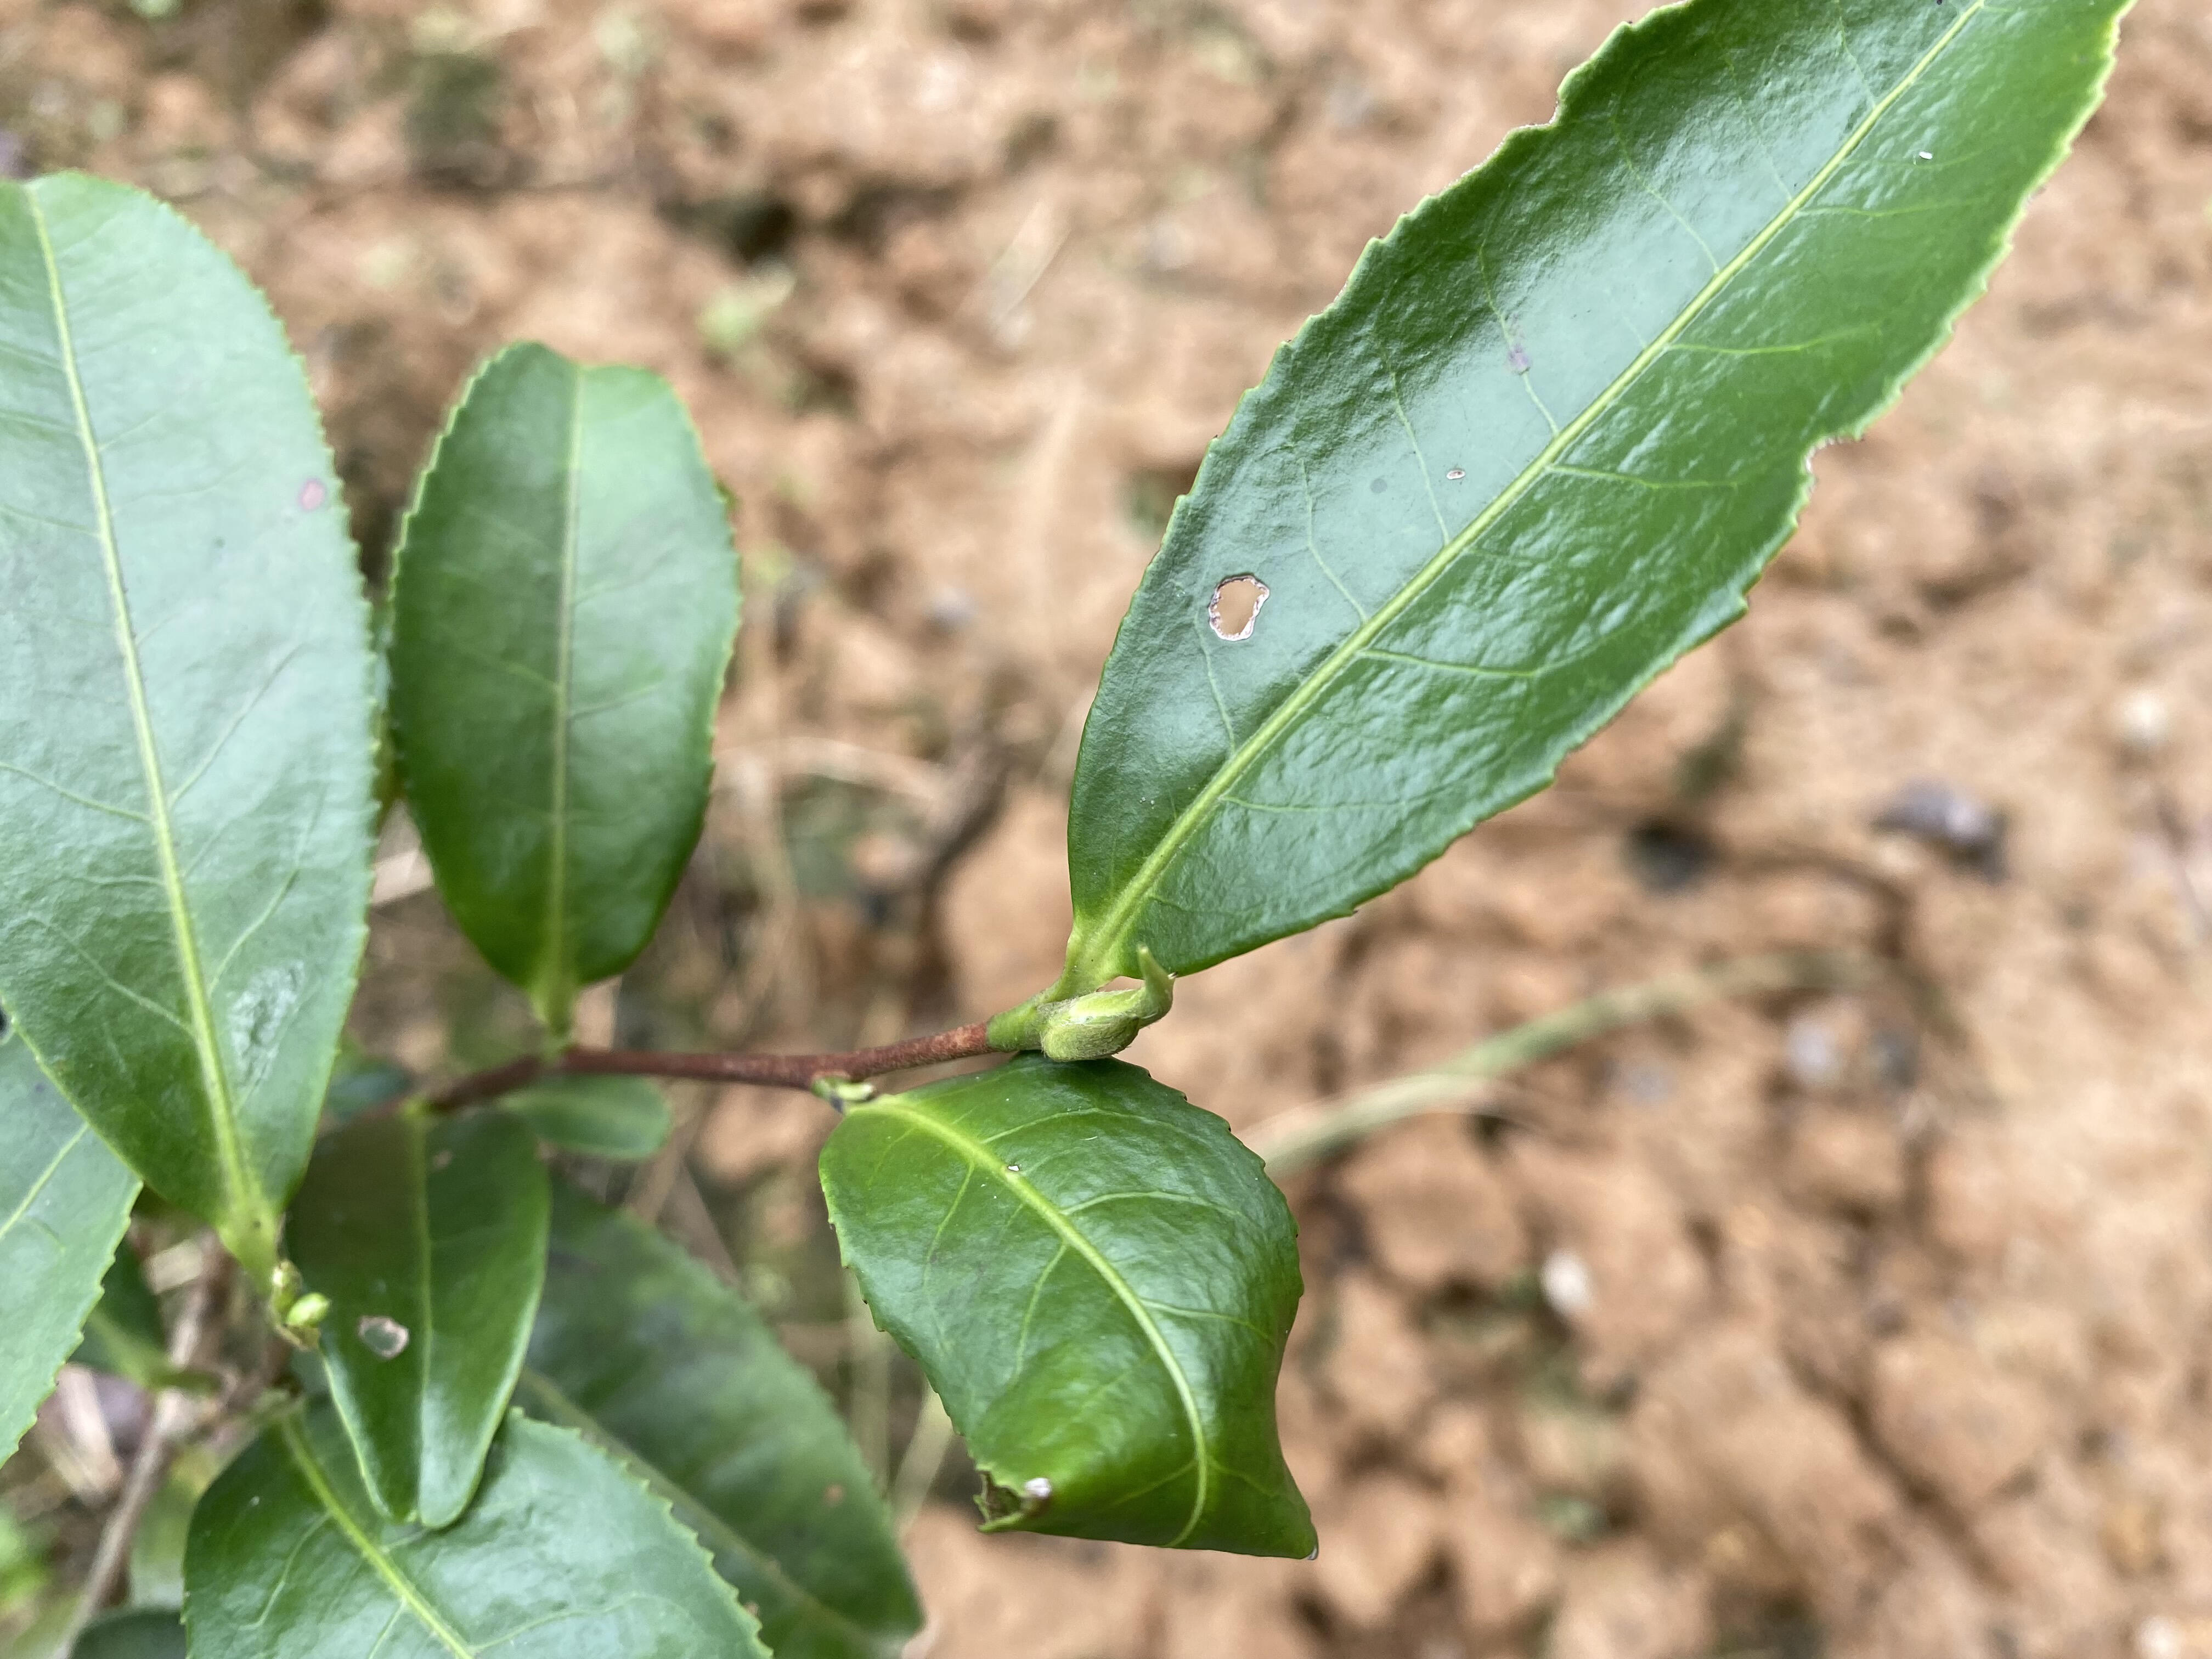chihuo_low: (1068, 3, 2135, 972)
healthy: (390, 342, 745, 1006)
tanju_low: (3, 166, 385, 1258)
